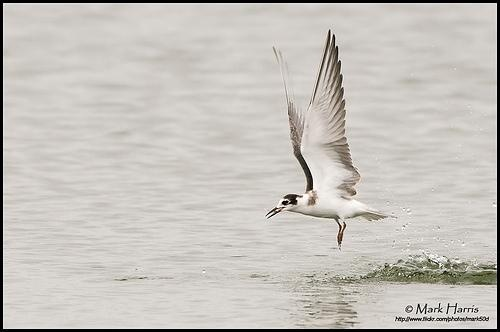bird: (261, 28, 396, 252)
